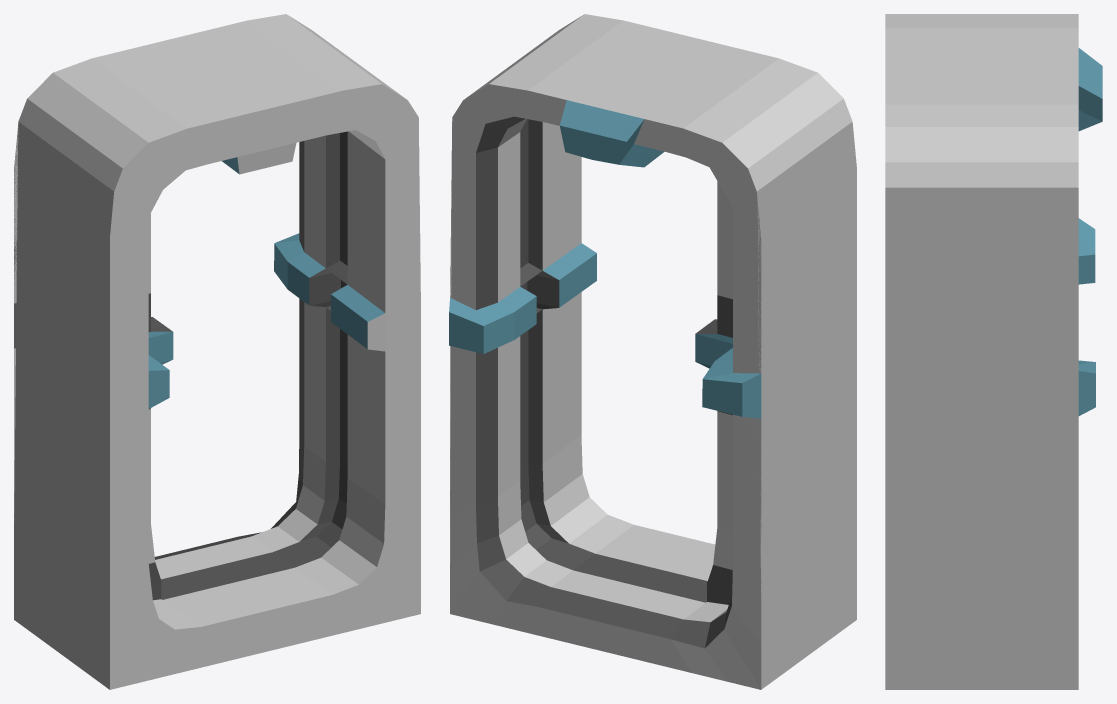
The model's file is Door.dae.
The picture shows the model from 3 angles, left to right: view 1: azimuth 30°, elevation 25°; view 2: azimuth 150°, elevation 25°; view 3: azimuth 270°, elevation 25°; orthographic projection.
Parts seen in each view (by area): view 1: Door; view 2: Door; view 3: Door.
Boxes of the visible parts, x1,y1,x2,y2 form: Door: (14,14,420,689); Door: (449,14,856,689); Door: (885,14,1102,689).
Bounding box in the file's own units: 1.5 × 0.8995 × 2.5.
